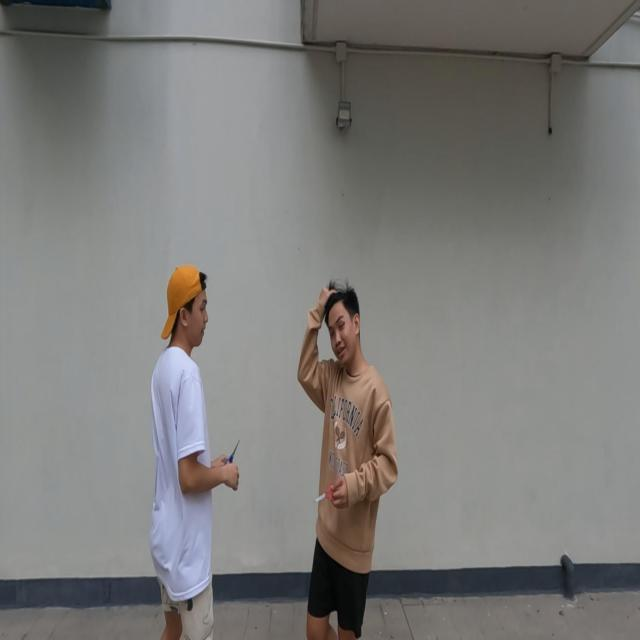scissor: (315, 482, 340, 502)
